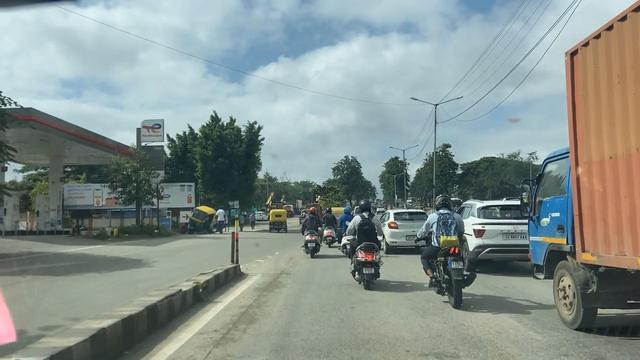LMV: (422, 187, 479, 307), (351, 204, 386, 285), (301, 205, 322, 260), (269, 209, 288, 234)
